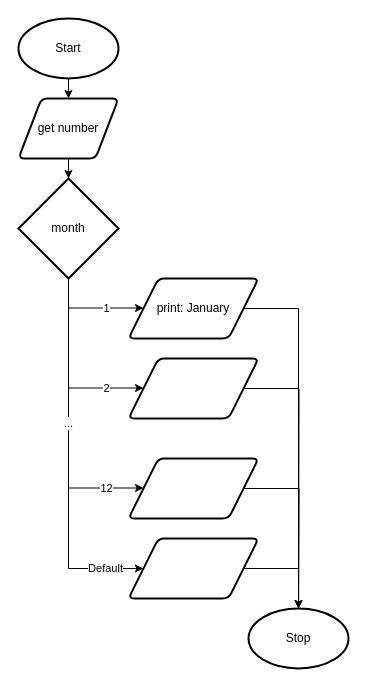
Image size: 366x686. Some labels were removed from this diagram. Here are the shapes that lost their labels. From the top down, the centre of each, then its label:
the point at 193,388: Print: February
the point at 193,488: Print: December
the point at 193,568: Print: there are not that many months
